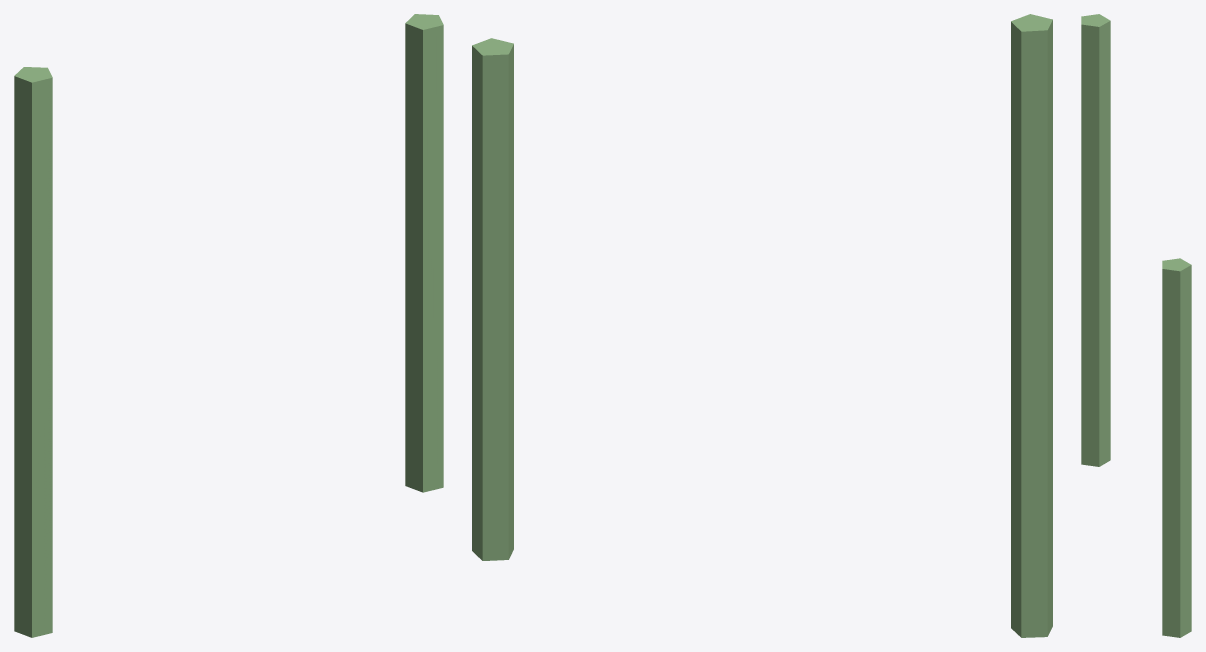
File: weed_tufts.glb
The picture shows the model from 3 angles, left to right: view 1: azimuth 30°, elevation 25°; view 2: azimuth 150°, elevation 25°; view 3: azimuth 270°, elevation 25°; orthographic projection. The views are drawn at different scales.
Visible parts, largest first — view 1: w1, w2; view 2: w1, w2; view 3: w1, w2.
Part boxes in pixels (x1,y1,x2,y2): w1: (14, 67, 52, 637); w2: (405, 14, 443, 492); w1: (1011, 14, 1052, 637); w2: (472, 38, 513, 560); w1: (1081, 14, 1110, 466); w2: (1162, 258, 1191, 637).
Size of the model in its own units: 0.5381 by 0.6001 by 0.1361.
